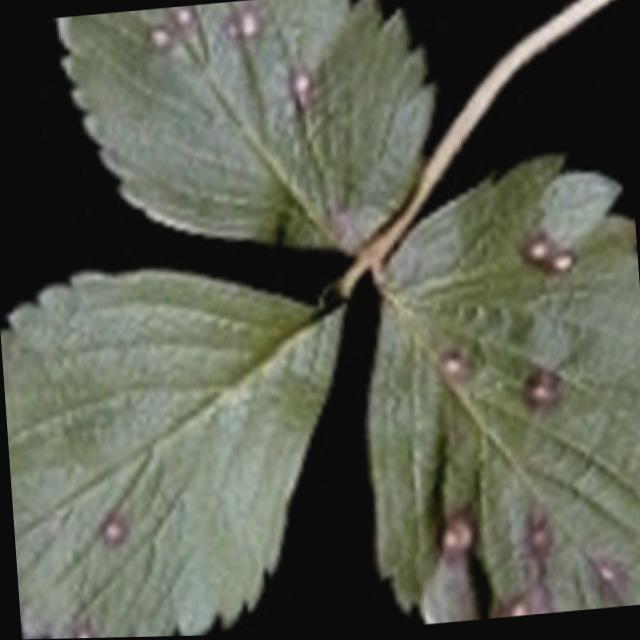Leaf Spot: (0, 264, 349, 640), (366, 158, 640, 626), (53, 0, 435, 258)
